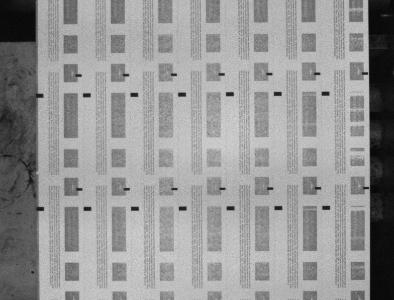backgroundclutter: (31, 270, 35, 274)
qblock: (130, 92, 139, 97), (36, 206, 44, 211), (131, 206, 139, 211), (36, 93, 44, 98), (322, 205, 331, 209), (179, 206, 187, 210), (275, 206, 283, 210), (84, 207, 92, 211), (227, 206, 235, 210), (274, 92, 282, 96), (178, 92, 186, 96), (226, 92, 234, 96), (83, 93, 91, 97), (322, 91, 330, 95)
smallqblock: (315, 187, 322, 190), (267, 187, 274, 190), (219, 187, 226, 190), (76, 188, 83, 191), (75, 74, 82, 77), (123, 73, 130, 76), (171, 73, 178, 76), (362, 72, 369, 75), (172, 187, 178, 190), (124, 188, 130, 191), (315, 72, 321, 75), (267, 72, 273, 75), (219, 73, 225, 76), (363, 187, 370, 189)
